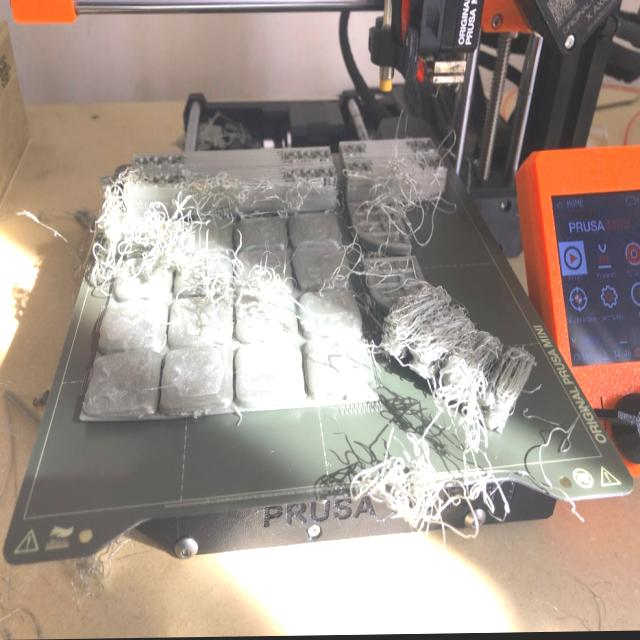spaghetti: (86, 124, 602, 550)
